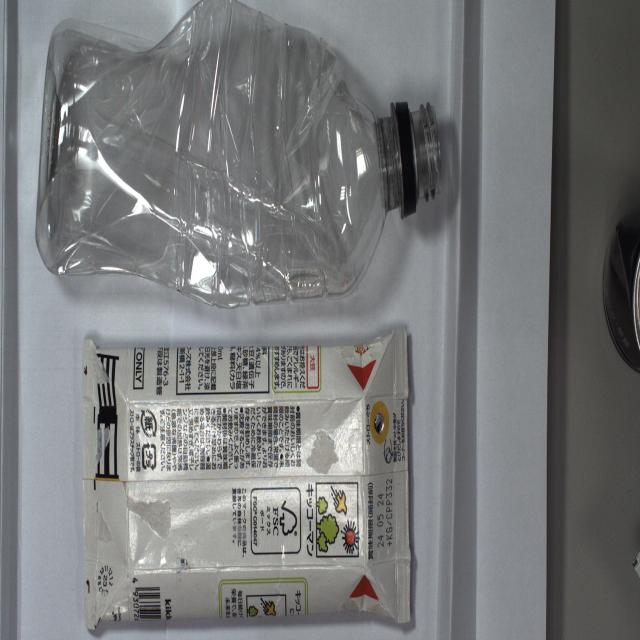Aluminium Foil: (72, 320, 412, 620)
Transparent Plastic Bottle: (28, 13, 454, 295)
